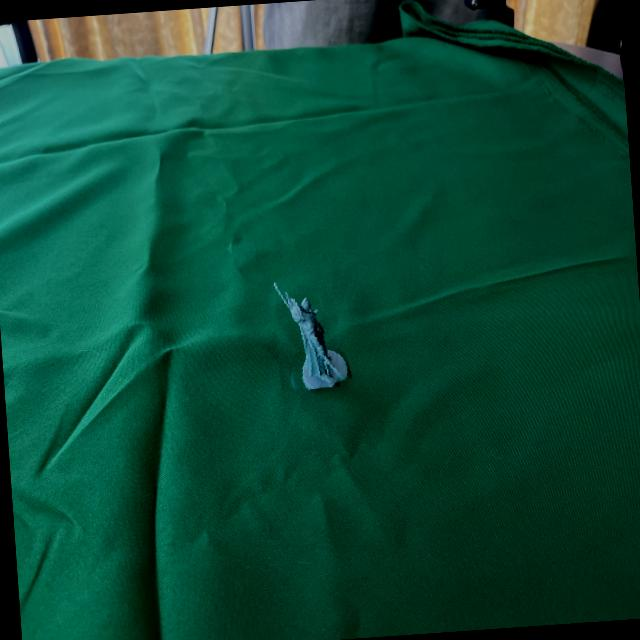isis_follower: (264, 250, 346, 392)
